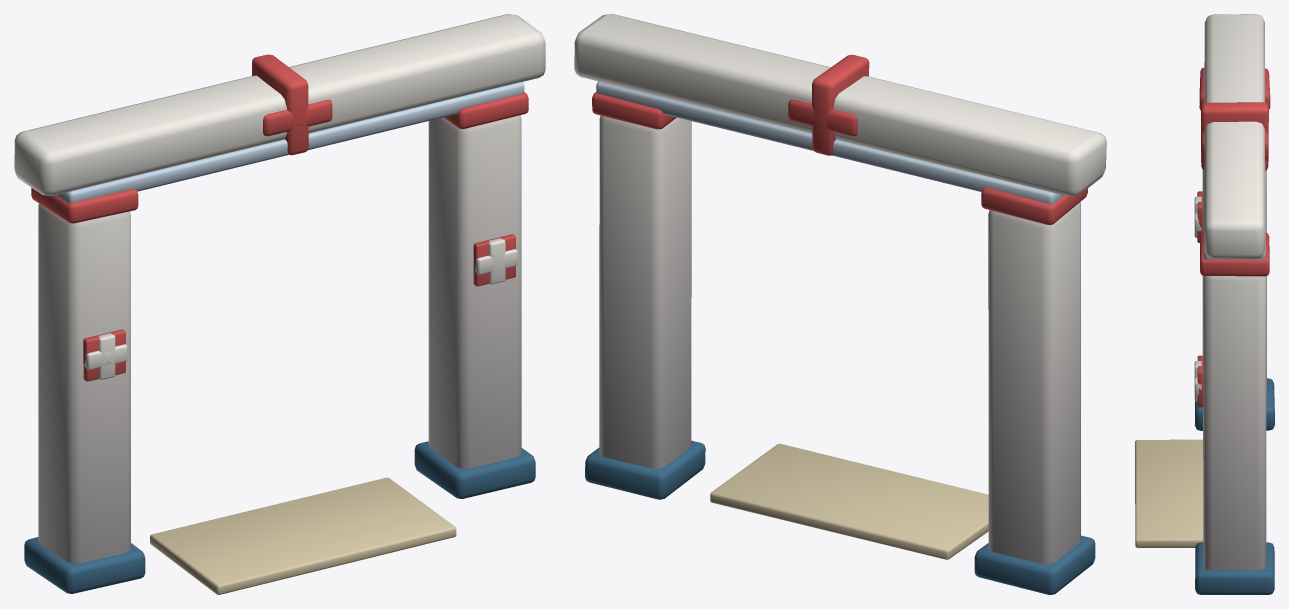
3 renders of one model, left to right at view 1: azimuth 30°, elevation 25°; view 2: azimuth 150°, elevation 25°; view 3: azimuth 270°, elevation 25°, orthographic. The views are drawn at different scales.
Parts seen in each view (by area): view 1: gate_013017ce; view 2: gate_013017ce; view 3: gate_013017ce.
Boxes of the visible parts, x1=… form: gate_013017ce: x1=14, y1=14, x2=545, y2=594; gate_013017ce: x1=574, y1=14, x2=1106, y2=594; gate_013017ce: x1=1135, y1=14, x2=1274, y2=594.
Size of the model in its own units: 5.07 by 4.37 by 1.41.
